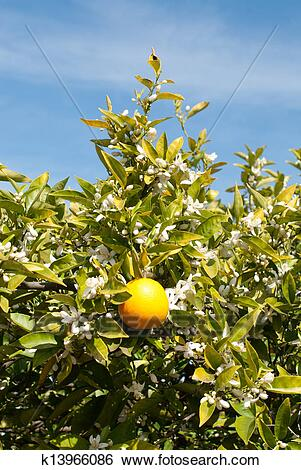orange: (117, 277, 173, 333)
